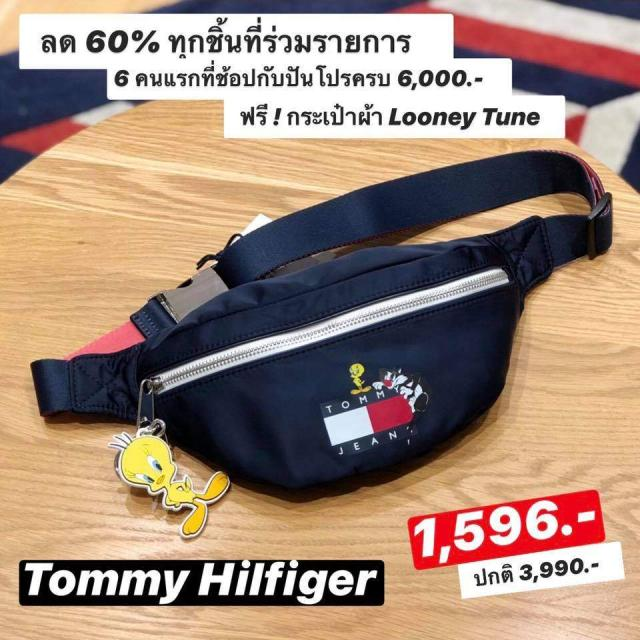handbag: (31, 152, 614, 495)
